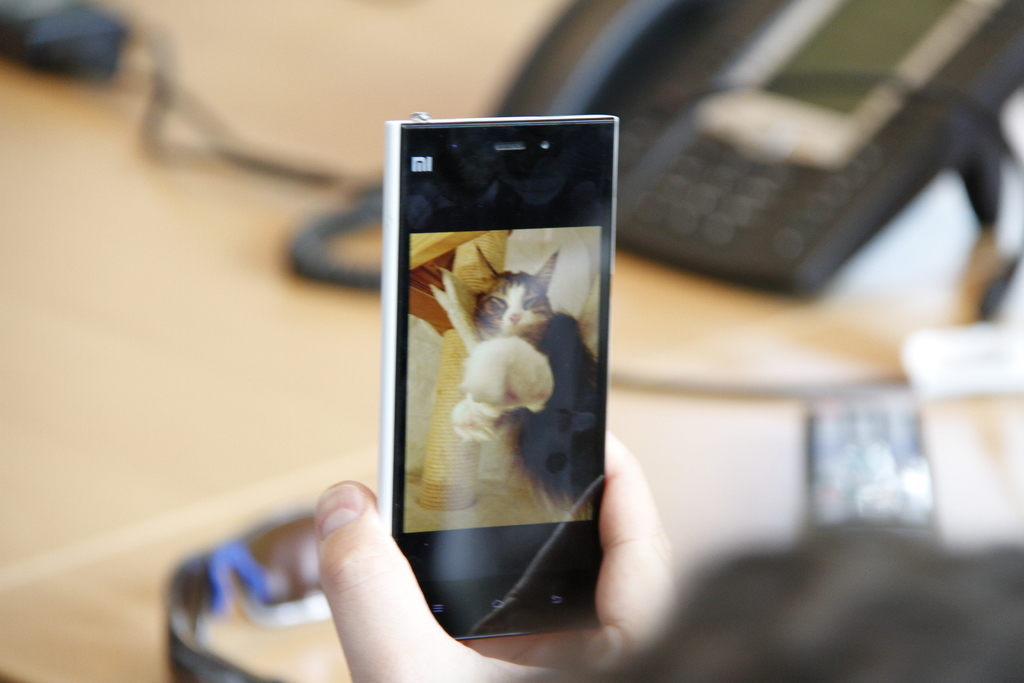Mobile-phone: (389, 117, 626, 639)
